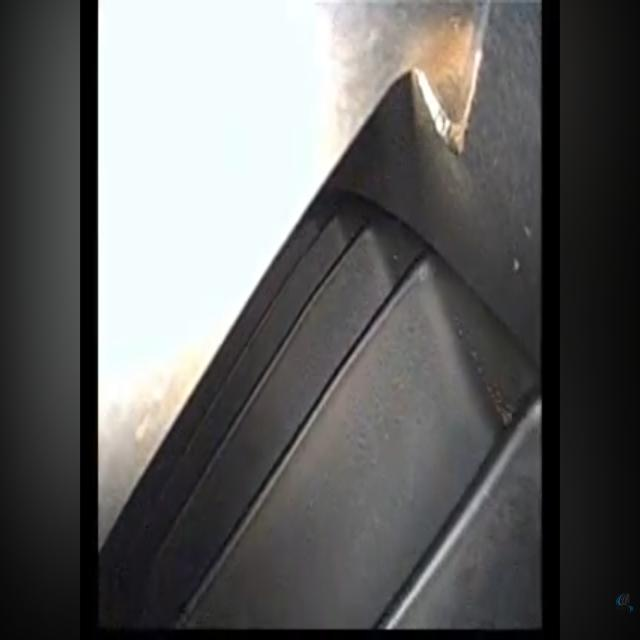turbine_blade: (180, 261, 503, 625)
